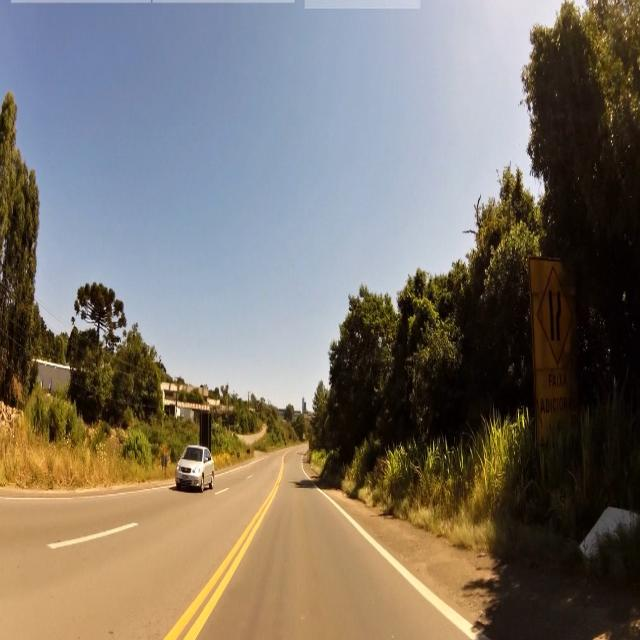A-21e: (530, 258, 572, 362)
